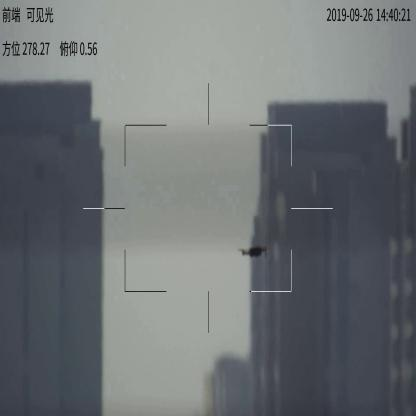uav: (238, 243, 268, 260)
